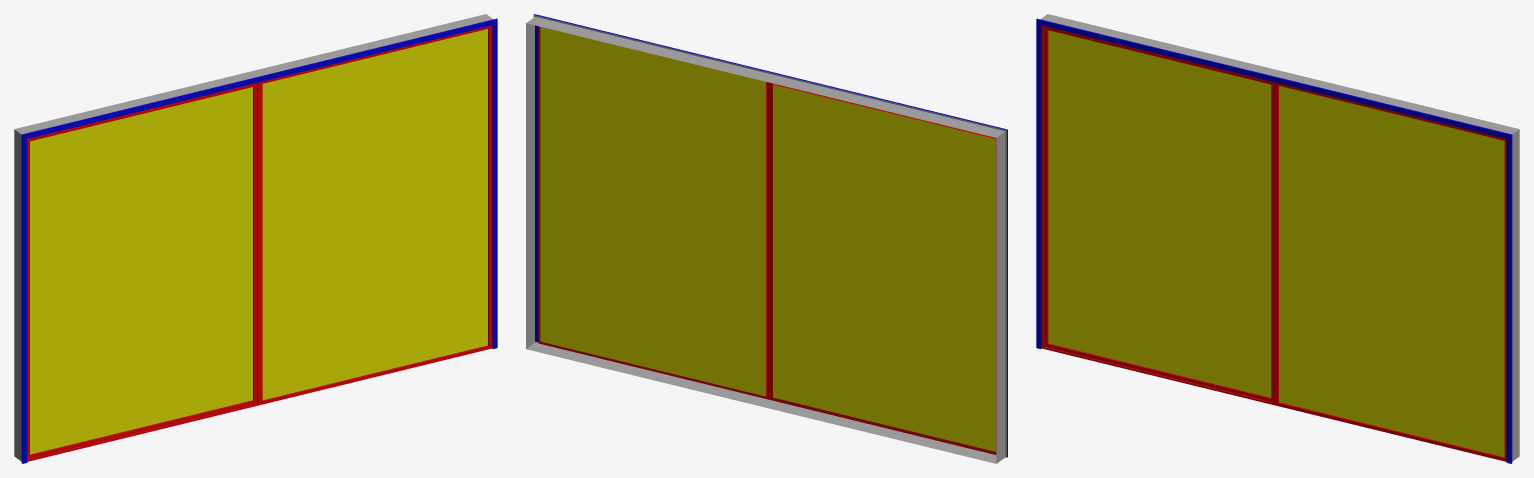
The model's file is SlidingDoor.fbx.
The picture shows the model from 3 angles, left to right: view 1: azimuth 30°, elevation 25°; view 2: azimuth 150°, elevation 25°; view 3: azimuth 330°, elevation 25°; orthographic projection.
Visible parts, largest first — view 1: SlidingDoor; view 2: SlidingDoor; view 3: SlidingDoor.
Part boxes in pixels (x1,y1,x2,y2): SlidingDoor: (14, 14, 497, 463); SlidingDoor: (526, 14, 1007, 463); SlidingDoor: (1036, 14, 1519, 463).
Size of the model in its own units: 304 by 201 by 11.
